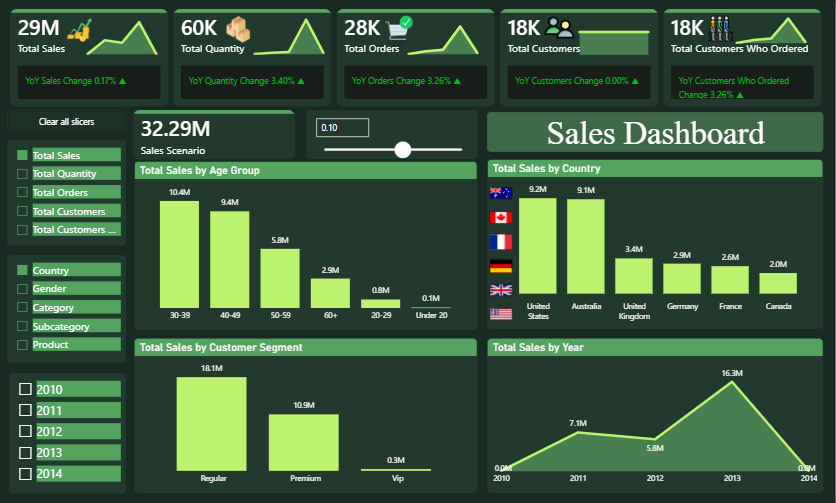

What the dashboard file says about the page in this screenshot:
{"tool":"powerbi","page":{"name":"Overview","canvas":[1300,790],"ordinal":0},"visuals":[{"type":"slicer","fields":{"Values":["dim.dim"]},"box":[12.4,400,185.1,168],"z":0},{"type":"slicer","fields":{"Values":["fact.fact"]},"box":[12.1,221.3,184.9,163.7],"z":1000},{"type":"columnChart","fields":{"Category":["dim_customers.country"],"Y":["_measures.total sales"]},"box":[758.9,250.4,522.5,264.4],"z":2000},{"type":"cardVisual","fields":{"Data":["_measures.total sales","_measures.total quantity","_measures.total orders","_measures.total customers","_measures.Average Order Value"]},"box":[0,0,1300.5,186.4],"z":3000},{"type":"slicer","fields":{"Values":["calender.Date.Variation.Date Hierarchy.Year"]},"box":[15.6,583.2,181.9,186.6],"z":4000},{"type":"columnChart","fields":{"Y":["_measures.total sales"],"Category":["dim_customers.Age Group"]},"box":[210.4,253.3,534.3,262.6],"z":5000},{"type":"lineChart","fields":{"Y":["_measures.total sales"],"Category":["calender.Date.Variation.Date Hierarchy.Year","calender.Date.Variation.Date Hierarchy.Quarter","calender.Date.Variation.Date Hierarchy.Month","calender.Date.Variation.Date Hierarchy.Day"]},"box":[758.9,528.7,522.5,241],"z":6000},{"type":"actionButton","box":[12.4,174.2,185.1,34.2],"z":7000},{"type":"cardVisual","fields":{"Data":["_measures.Scenario Sales"]},"box":[191.3,157.1,286.1,112],"z":8000},{"type":"slicer","fields":{"Values":["Quantity IF.Quantity IF"]},"box":[477.4,174.2,267.5,76.2],"z":9000},{"type":"lineChart","fields":{"Y":["_measures.total quantity"],"Category":["calender.Date.Variation.Date Hierarchy.Year"]},"box":[382.6,12.4,136.9,80.9],"z":10000},{"type":"lineChart","fields":{"Category":["calender.Date.Variation.Date Hierarchy.Year"],"Y":["_measures.total sales"]},"box":[122.9,12.4,136.9,80.9],"z":11000},{"type":"lineChart","fields":{"Category":["calender.Date.Variation.Date Hierarchy.Year"],"Y":["_measures.total orders"]},"box":[622,12.4,136.9,80.9],"z":12000},{"type":"lineChart","fields":{"Y":["_measures.total customers"],"Category":["calender.Date.Variation.Date Hierarchy.Year"]},"box":[888,12.4,136.9,80.9],"z":13000},{"type":"lineChart","fields":{"Y":["_measures.total customers who ordered"],"Category":["calender.Date.Variation.Date Hierarchy.Year"]},"box":[1132.1,12.4,136.9,63.8],"z":14000},{"type":"textbox","title":"Sales Dashboard","box":[758.9,177.3,522.5,62.2],"z":15000},{"type":"columnChart","fields":{"Category":["dim_customers.Customer Segment"],"Y":["_measures.total sales"]},"box":[209.8,528.9,534,240.6],"z":16000},{"type":"enlightenWorldFlagsE887F52F76244B1C927F80CF9724AEF6","fields":{"code":["dim_customers.country"]},"box":[755.8,279.9,49.8,236.4],"z":17000},{"type":"image","box":[102.6,29.5,45.1,40.4],"z":18000},{"type":"image","box":[349.9,21.8,43.5,54.4],"z":19000},{"type":"image","box":[600.3,21.8,43.5,54.4],"z":20000},{"type":"image","box":[844.4,21.8,54.4,48.2],"z":21000},{"type":"image","box":[1105.7,24.9,38,39],"z":22000}]}

Visuals, with their boxes in screenshot pixels (x1, y1, x2, y2), scaled from the page's 1300x790 canvas onto the 836x503 screenshot:
slicer - dim.dim: BBox(8, 255, 127, 362)
slicer - fact.fact: BBox(8, 141, 127, 245)
columnChart - dim_customers.country x _measures.total sales: BBox(488, 159, 824, 328)
cardVisual - _measures.total sales x _measures.total quantity: BBox(0, 0, 835, 119)
slicer - calender.Date.Variation.Date Hierarchy.Year: BBox(10, 371, 127, 490)
columnChart - _measures.total sales x dim_customers.Age Group: BBox(135, 161, 479, 328)
lineChart - _measures.total sales x calender.Date.Variation.Date Hierarchy.Year: BBox(488, 337, 824, 490)
actionButton: BBox(8, 111, 127, 133)
cardVisual - _measures.Scenario Sales: BBox(123, 100, 307, 171)
slicer - Quantity IF.Quantity IF: BBox(307, 111, 479, 159)
lineChart - _measures.total quantity x calender.Date.Variation.Date Hierarchy.Year: BBox(246, 8, 334, 59)
lineChart - calender.Date.Variation.Date Hierarchy.Year x _measures.total sales: BBox(79, 8, 167, 59)
lineChart - calender.Date.Variation.Date Hierarchy.Year x _measures.total orders: BBox(400, 8, 488, 59)
lineChart - _measures.total customers x calender.Date.Variation.Date Hierarchy.Year: BBox(571, 8, 659, 59)
lineChart - _measures.total customers who ordered x calender.Date.Variation.Date Hierarchy.Year: BBox(728, 8, 816, 49)
"Sales Dashboard" textbox: BBox(488, 113, 824, 152)
columnChart - dim_customers.Customer Segment x _measures.total sales: BBox(135, 337, 478, 490)
enlightenWorldFlagsE887F52F76244B1C927F80CF9724AEF6 - dim_customers.country: BBox(486, 178, 518, 329)
image: BBox(66, 19, 95, 45)
image: BBox(225, 14, 253, 49)
image: BBox(386, 14, 414, 49)
image: BBox(543, 14, 578, 45)
image: BBox(711, 16, 735, 41)
